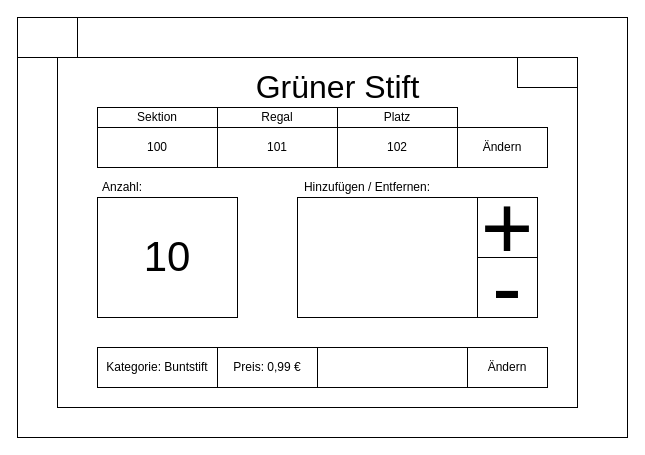
The diagram is 645 pixels wide and 455 high, and some of its shapes have lost their labels. The shapes that lost their labels are listed below. From the top down, each one's centre as x and y in pixels, then its label:
At point (47, 37): "Menü".
At point (547, 72): "Löschen ?".
At point (392, 367): "Gewicht: 10 gramm".
